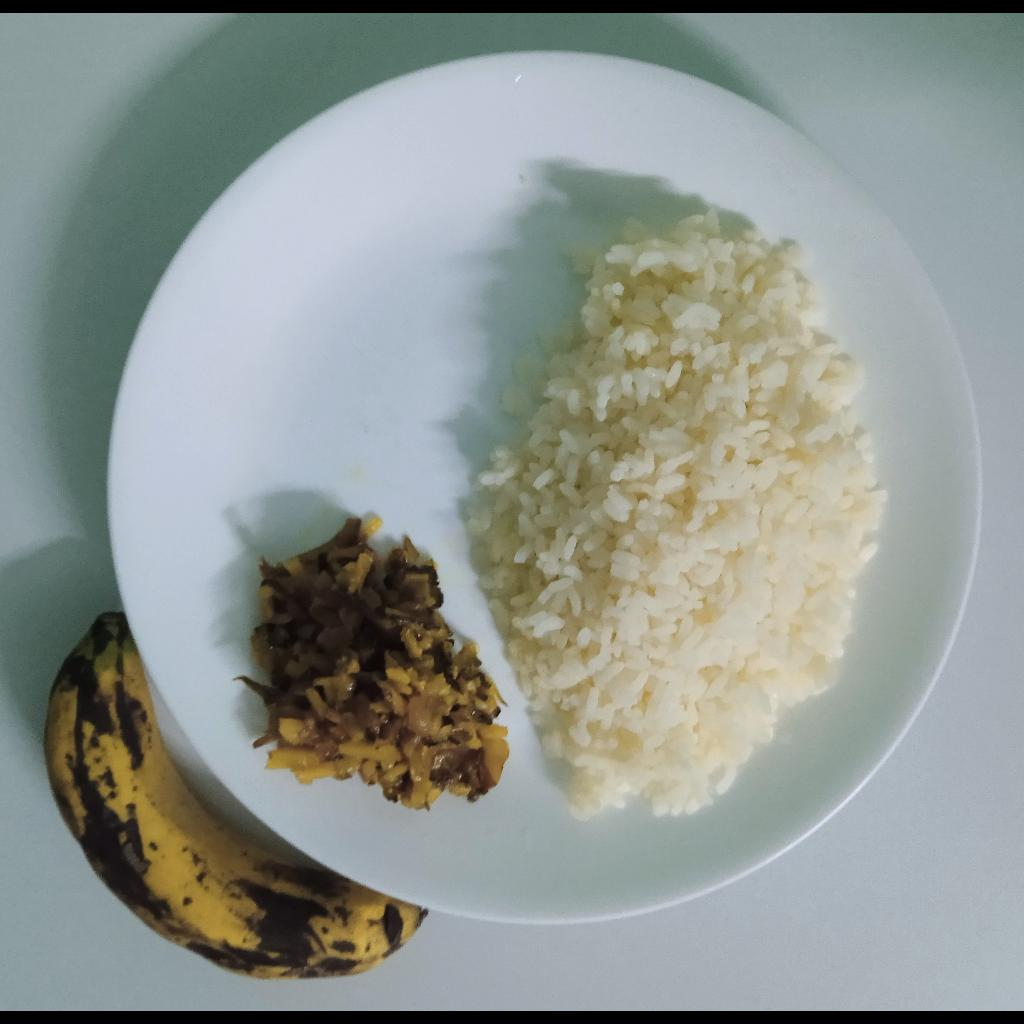banana: (44, 610, 422, 978)
rice: (464, 212, 884, 822)
vegetable: (233, 515, 512, 809)
